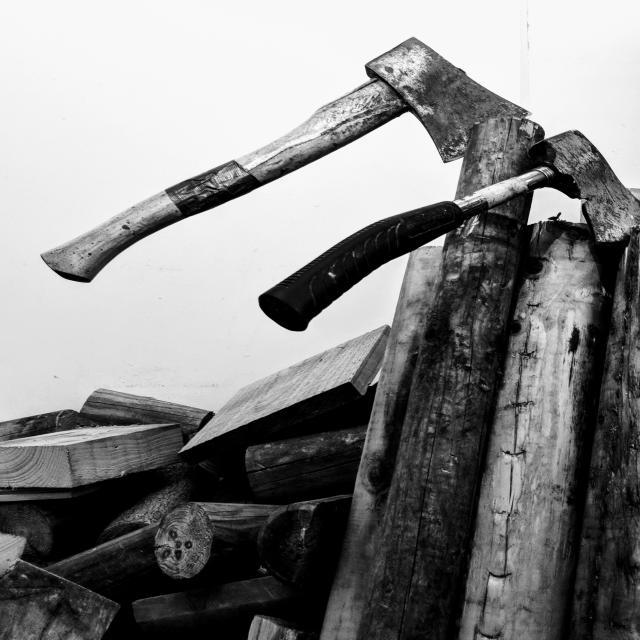Axe: (42, 38, 528, 281), (260, 131, 640, 331)
